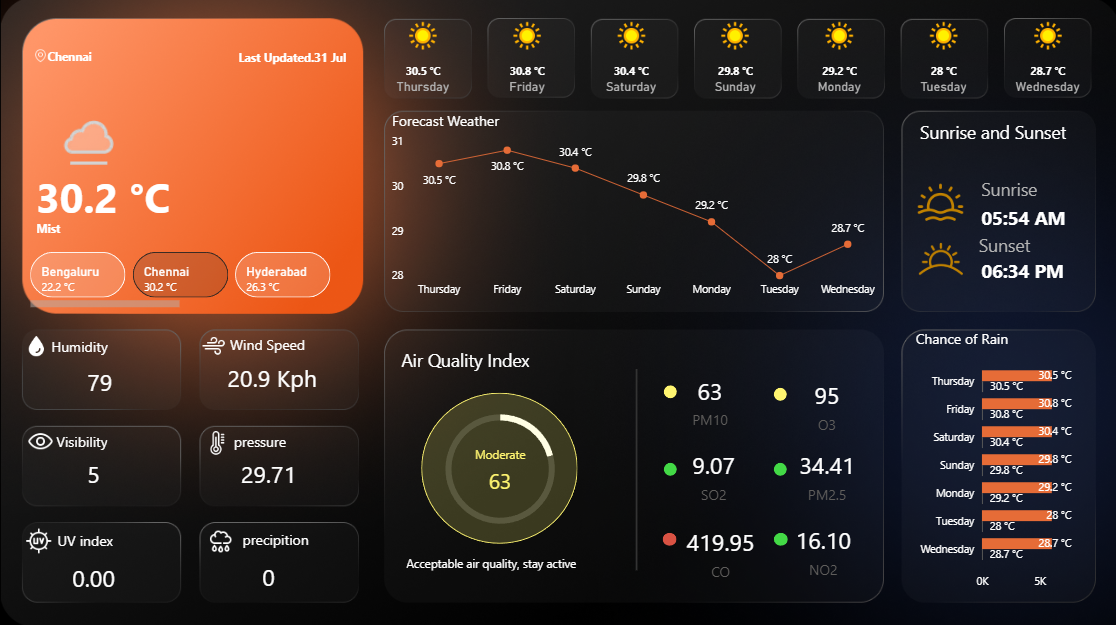

Layout of this report page (visuals, bound fields, positions):
{"tool":"powerbi","page":{"name":"Weather Dahsboard","canvas":[1280,720],"ordinal":0},"visuals":[{"type":"donutChart","fields":{"Y":["Sum(Current.current.air_quality.pm10)","_Measures.Left_Value_PM10"]},"box":[463.8,454,215,166.2],"z":0},{"type":"shape","box":[481.2,450,178.8,172.5],"z":1000},{"type":"advancedSlicerVisual","fields":{"Values":["Locations.location.name"]},"box":[30,284.3,354.3,75.7],"z":2000},{"type":"shape","box":[41.4,187.1,165.7,77.1],"z":3000},{"type":"shape","box":[41.4,240,98.6,42.9],"z":4000},{"type":"shape","box":[54.3,42.9,134.3,44.3],"z":5000},{"type":"shape","box":[264.3,44.3,131.4,42.9],"z":6000},{"type":"image","box":[33.8,53.1,24.4,24.4],"z":7000},{"type":"cardVisual","fields":{"Data":["Min(Current.current.condition.icon)"]},"box":[34.3,101.4,124.3,100],"z":8000},{"type":"image","box":[24.3,484.3,44.3,42.9],"z":9000},{"type":"shape","box":[64.3,484.3,131.4,42.9],"z":10000},{"type":"image","box":[231.4,600,41.4,40],"z":11000},{"type":"shape","box":[277.1,595.7,131.4,42.9],"z":12000},{"type":"image","box":[24.3,377.1,34.3,38.6],"z":13000},{"type":"image","box":[225.7,377.1,37.1,38.6],"z":14000},{"type":"image","box":[230,485.7,37.1,42.9],"z":15000},{"type":"image","box":[24.6,598.5,40,41.5],"z":16000},{"type":"shape","box":[262.9,372.9,131.4,42.9],"z":17000},{"type":"shape","box":[267.1,484.3,131.4,42.9],"z":18000},{"type":"shape","box":[58.6,375.7,130,42.9],"z":19000},{"type":"shape","box":[65.7,597.1,131.4,42.9],"z":20000},{"type":"card","fields":{"Values":["Sum(Current.current.humidity)"]},"box":[41.4,415.7,145.7,45.7],"z":21000},{"type":"card","fields":{"Values":["_Measures.Wind_Speed"]},"box":[238.6,411.4,145.7,45.7],"z":22000},{"type":"card","fields":{"Values":["Sum(Current.current.pressure_in)"]},"box":[234.3,521.4,145.7,45.7],"z":23000},{"type":"card","fields":{"Values":["Sum(Current.current.vis_km)"]},"box":[34.3,521.4,145.7,45.7],"z":24000},{"type":"card","fields":{"Values":["Sum(Current.current.precip_in)"]},"box":[234.3,638.6,145.7,45.7],"z":25000},{"type":"card","fields":{"Values":["Sum(Current.current.uv)"]},"box":[34.3,640,145.7,45.7],"z":26000},{"type":"advancedSlicerVisual","fields":{"Values":["Forecast_Day.Day_Name"]},"box":[423.3,6.7,841.7,130],"z":27000},{"type":"lineChart","title":"Forecast Weather","fields":{"Y":["Sum(Forecast_Day.forecast.forecastday.day.avgtemp_c)"],"Category":["Forecast_Day.Day_Name"]},"box":[443.3,126.7,568.3,223.3],"z":28000},{"type":"shape","box":[1051.7,130,195,43.3],"z":29000},{"type":"shape","box":[1122,189.3,106.7,53.3],"z":30000},{"type":"shape","box":[1118.7,254.3,106.7,53.3],"z":31000},{"type":"shape","box":[1122,227.7,106.7,45],"z":32000},{"type":"shape","box":[1122,287.7,106.7,46.7],"z":33000},{"type":"image","box":[1033.3,258.3,85,76.7],"z":34000},{"type":"image","box":[1033.3,201.7,83.3,61.7],"z":35000},{"type":"clusteredBarChart","title":"Chance of Rain","fields":{"Y":["Sum(Forcast_Hour.forecast.forecastday.hour.chance_of_rain)","Current.Left_Value_Rain"],"Category":["Forecast_Day.Day_Name"]},"box":[1041.7,376.7,195,306.7],"z":36000},{"type":"shape","box":[458.3,390,195,43.3],"z":37000},{"type":"card","fields":{"Values":["Sum(Current.current.air_quality.pm10)"]},"box":[752.5,416.2,117.5,87.5],"z":38000},{"type":"card","fields":{"Values":["Sum(Current.current.air_quality.o3)"]},"box":[886.7,420,116.7,88.3],"z":39000},{"type":"card","fields":{"Values":["Sum(Current.current.air_quality.pm2_5)"]},"box":[886.7,500,116.7,88.3],"z":40000},{"type":"card","fields":{"Values":["Sum(Current.current.air_quality.so2)"]},"box":[757.8,500.3,117.5,88.8],"z":41000},{"type":"card","fields":{"Values":["Sum(Current.current.air_quality.co)"]},"box":[765,588.8,116.2,88.8],"z":42000},{"type":"card","fields":{"Values":["Sum(Current.current.air_quality.no2)"]},"box":[883.3,585,116.7,88.3],"z":43000},{"type":"shape","box":[758.8,441.2,15,15],"z":44000},{"type":"shape","box":[757.5,610,16.2,15],"z":45000},{"type":"shape","box":[758.8,530,15,15],"z":46000},{"type":"shape","box":[884,443.8,15,15],"z":47000},{"type":"shape","box":[883.8,610,16.2,15],"z":48000},{"type":"shape","box":[883.8,530,15,15],"z":49000},{"type":"shape","box":[630,422.5,195,230],"z":50000},{"type":"card","fields":{"Values":["Sum(Current.current.air_quality.pm10)"]},"box":[512.5,511.2,117.5,65],"z":51000},{"type":"shape","box":[463.8,622.5,260,42.5],"z":51001}]}

Visuals, with their boxes in screenshot pixels (x1, y1, x2, y2), scaled from the page's 1280x720 canvas onto the 1116x625 screenshot:
donutChart - Sum(Current.current.air_quality.pm10) x _Measures.Left_Value_PM10: BBox(404, 394, 592, 538)
shape: BBox(420, 391, 575, 540)
advancedSlicerVisual - Locations.location.name: BBox(26, 247, 335, 312)
shape: BBox(36, 162, 181, 229)
shape: BBox(36, 208, 122, 246)
shape: BBox(47, 37, 164, 76)
shape: BBox(230, 38, 345, 76)
image: BBox(29, 46, 51, 67)
cardVisual - Min(Current.current.condition.icon): BBox(30, 88, 138, 175)
image: BBox(21, 420, 60, 458)
shape: BBox(56, 420, 171, 458)
image: BBox(202, 521, 238, 556)
shape: BBox(242, 517, 356, 554)
image: BBox(21, 327, 51, 361)
image: BBox(197, 327, 229, 361)
image: BBox(201, 422, 233, 459)
image: BBox(21, 520, 56, 556)
shape: BBox(229, 324, 344, 361)
shape: BBox(233, 420, 347, 458)
shape: BBox(51, 326, 164, 363)
shape: BBox(57, 518, 172, 556)
card - Sum(Current.current.humidity): BBox(36, 361, 163, 401)
card - _Measures.Wind_Speed: BBox(208, 357, 335, 397)
card - Sum(Current.current.pressure_in): BBox(204, 453, 331, 492)
card - Sum(Current.current.vis_km): BBox(30, 453, 157, 492)
card - Sum(Current.current.precip_in): BBox(204, 554, 331, 594)
card - Sum(Current.current.uv): BBox(30, 556, 157, 595)
advancedSlicerVisual - Forecast_Day.Day_Name: BBox(369, 6, 1103, 119)
"Forecast Weather" lineChart: BBox(387, 110, 882, 304)
shape: BBox(917, 113, 1087, 150)
shape: BBox(978, 164, 1071, 211)
shape: BBox(975, 221, 1068, 267)
shape: BBox(978, 198, 1071, 237)
shape: BBox(978, 250, 1071, 290)
image: BBox(901, 224, 975, 291)
image: BBox(901, 175, 974, 229)
"Chance of Rain" clusteredBarChart: BBox(908, 327, 1078, 593)
shape: BBox(400, 339, 570, 376)
card - Sum(Current.current.air_quality.pm10): BBox(656, 361, 759, 437)
card - Sum(Current.current.air_quality.o3): BBox(773, 365, 875, 441)
card - Sum(Current.current.air_quality.pm2_5): BBox(773, 434, 875, 511)
card - Sum(Current.current.air_quality.so2): BBox(661, 434, 763, 511)
card - Sum(Current.current.air_quality.co): BBox(667, 511, 768, 588)
card - Sum(Current.current.air_quality.no2): BBox(770, 508, 872, 584)
shape: BBox(662, 383, 675, 396)
shape: BBox(660, 530, 675, 543)
shape: BBox(662, 460, 675, 473)
shape: BBox(771, 385, 784, 398)
shape: BBox(771, 530, 785, 543)
shape: BBox(771, 460, 784, 473)
shape: BBox(549, 367, 719, 566)
card - Sum(Current.current.air_quality.pm10): BBox(447, 444, 549, 500)
shape: BBox(404, 540, 631, 577)
